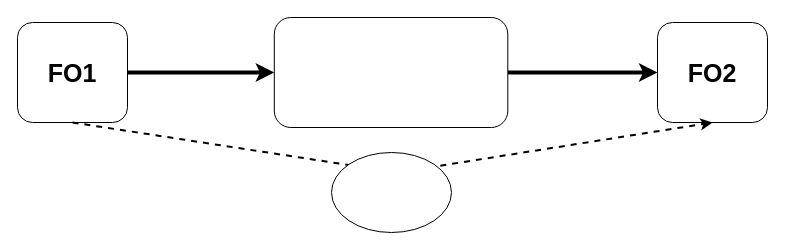
Some shapes in this 785 by 250 pixel diagram are drawn without their labels. Here are the shapes that lost their labels. From the top down, the centre of each, then its label:
At [390,72]: "Fixar exames não atendidos da FO1 como restrição à FO2".
At [391,192]: "Hotstart em FO2 com a melhor solução de FO1".
